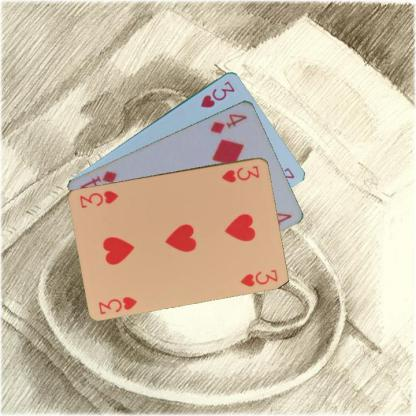3h: (198, 78, 236, 109), (96, 294, 139, 316), (219, 163, 261, 184)
4d: (208, 110, 249, 135)
